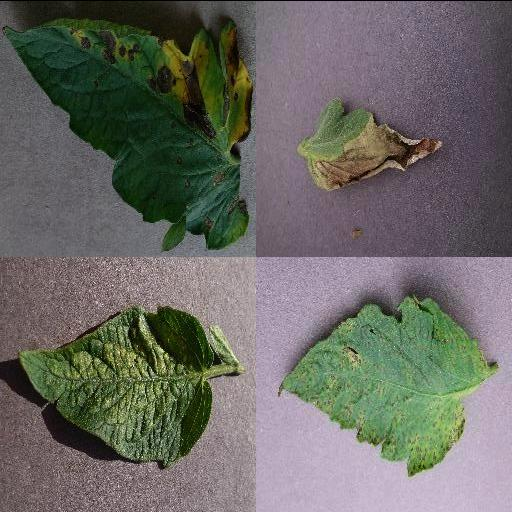Early Blight: (2, 15, 256, 250)
Late Blight: (304, 97, 444, 191)
Septoria: (279, 290, 489, 474)
Spider Mites: (17, 305, 211, 465)
